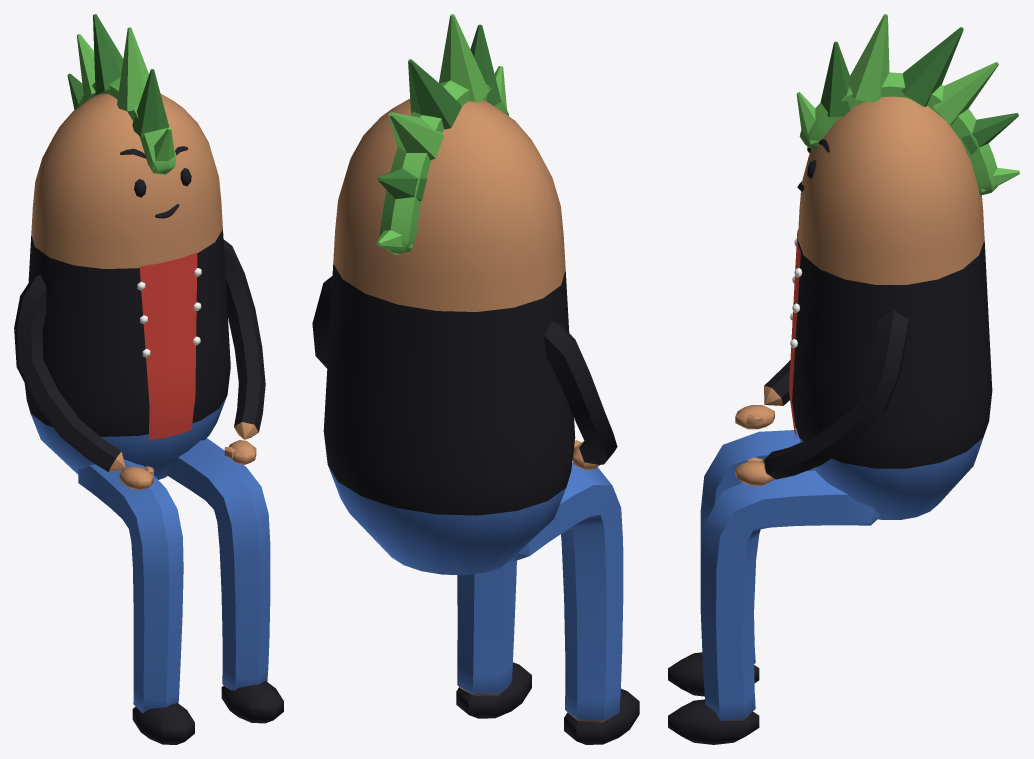
Rendered from PasajeroRockero.fbx.
3 renders of one model, left to right at view 1: azimuth 30°, elevation 25°; view 2: azimuth 150°, elevation 25°; view 3: azimuth 270°, elevation 25°, orthographic. The views are drawn at different scales.
Parts seen in each view (by area): view 1: PasajeroRockero; view 2: PasajeroRockero; view 3: PasajeroRockero.
Part boxes in pixels (box(x1,y1,x2,y2)): PasajeroRockero: box(14, 14, 283, 744); PasajeroRockero: box(312, 14, 639, 744); PasajeroRockero: box(668, 14, 1019, 744).
Size of the model in its own units: 2.11 by 5.47 by 2.49.
Materials: 1 (1 with a texture image).
